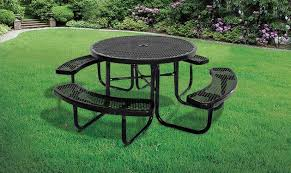obstacle: (48, 34, 239, 139)
